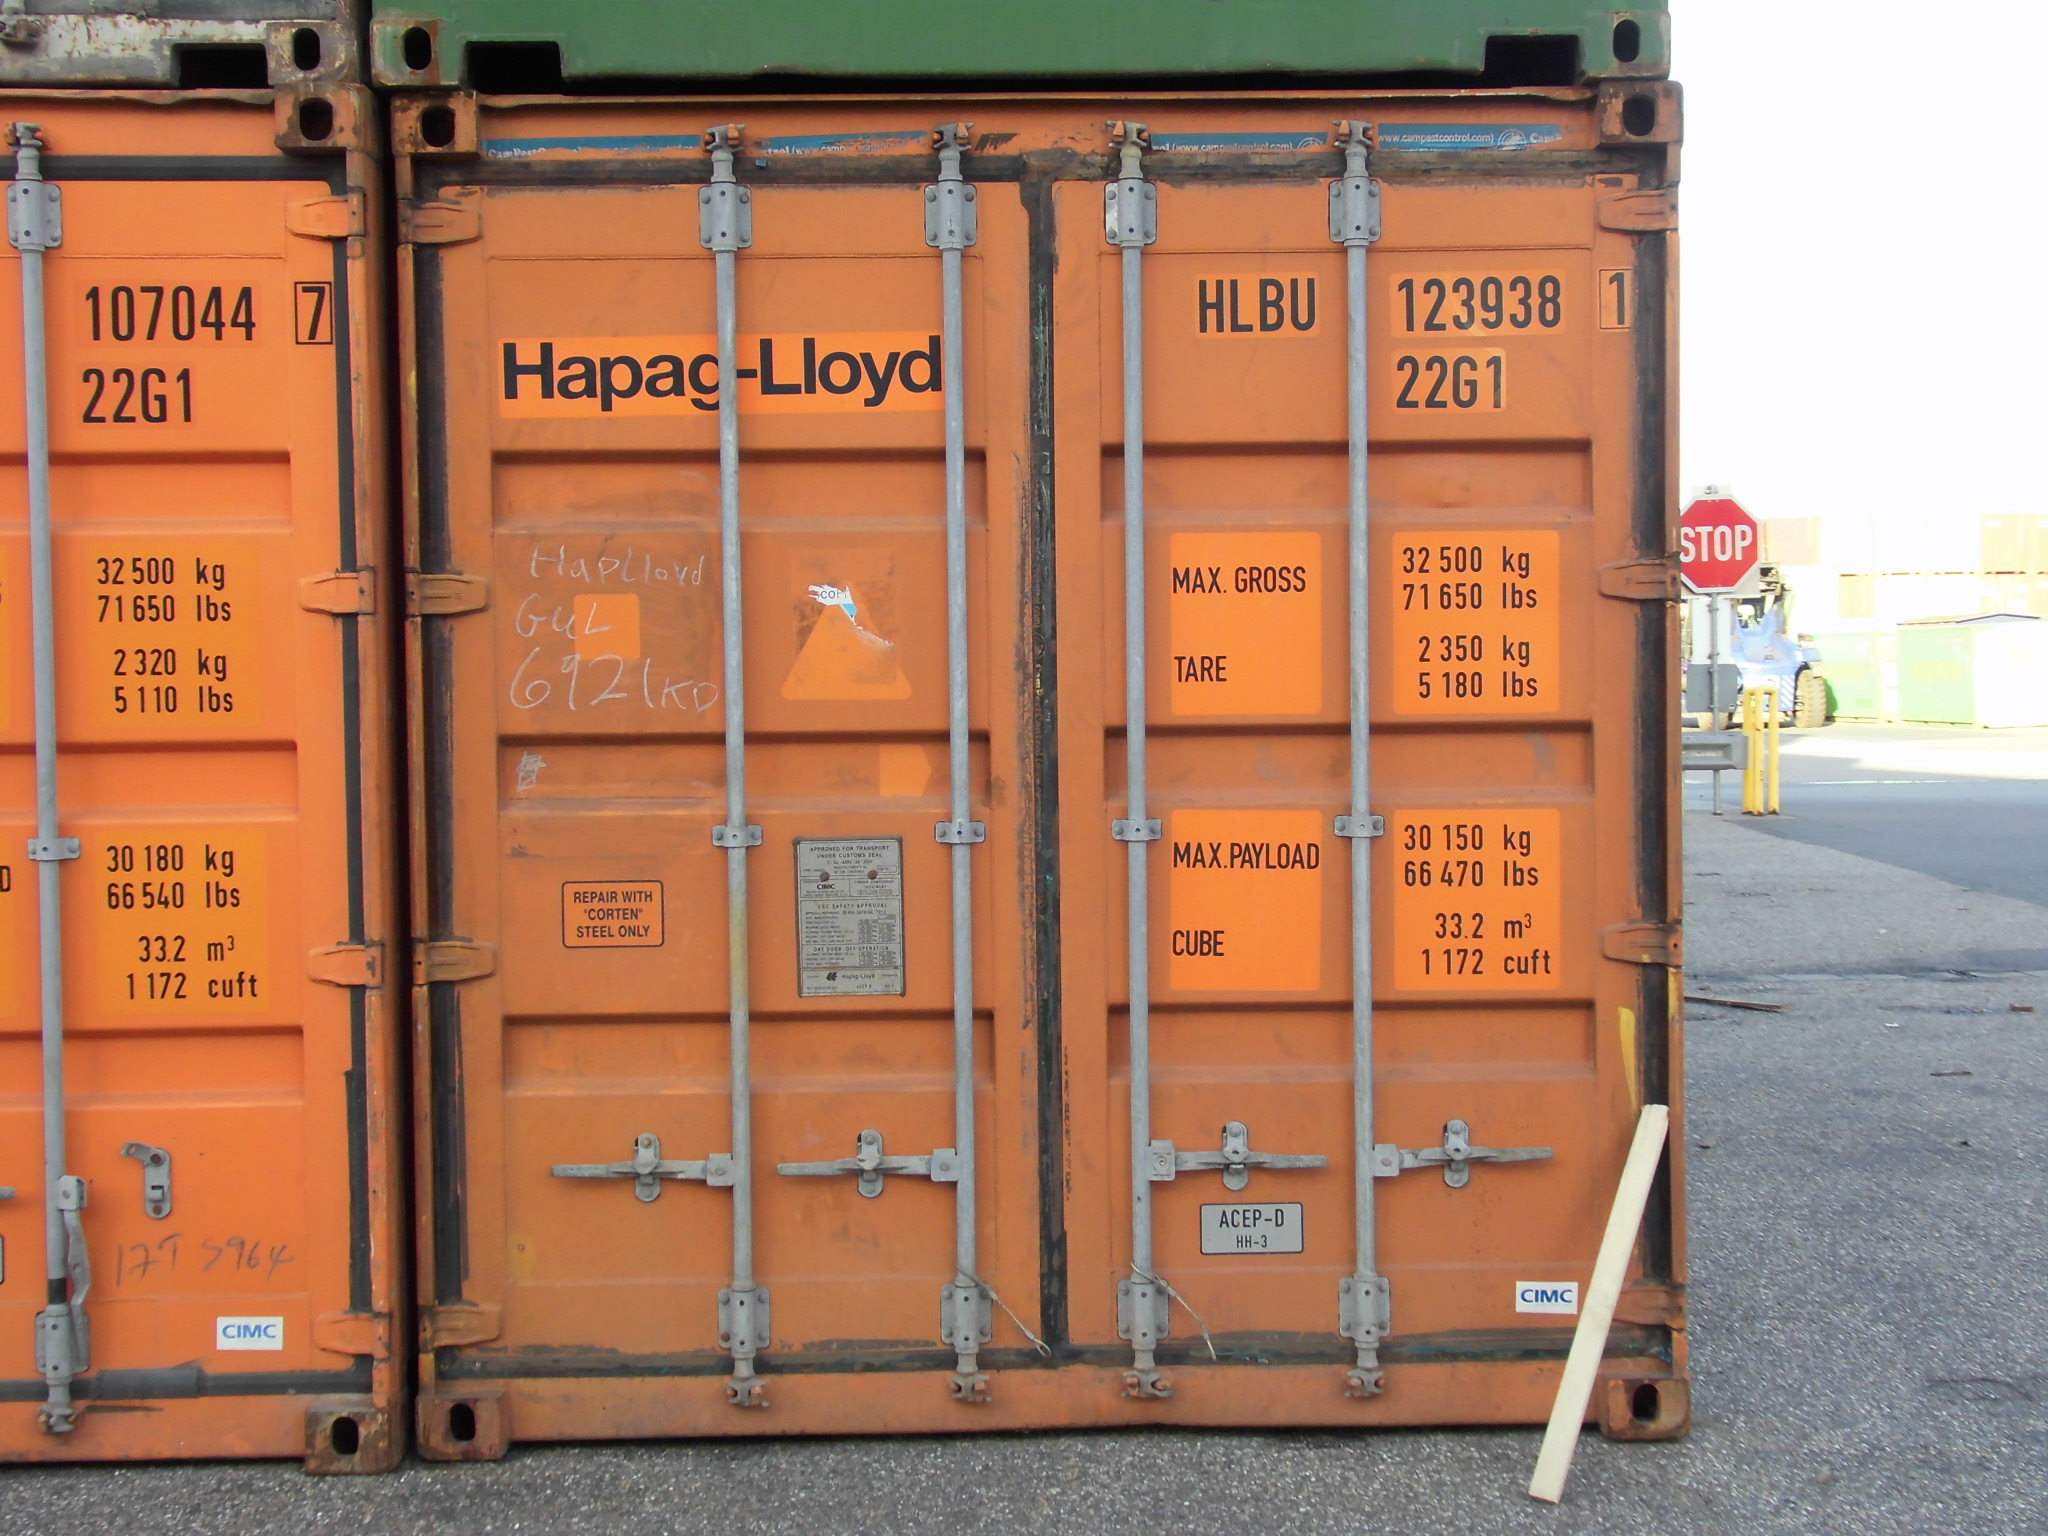container_door: (390, 90, 1698, 1463)
